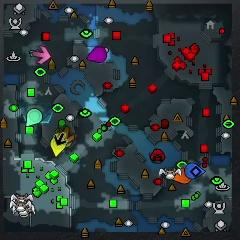p1: (185, 162, 206, 177)
p2: (25, 107, 44, 127)
p3: (87, 46, 107, 64)
p4: (51, 137, 65, 157)
p5: (170, 167, 192, 185)
x1: (32, 46, 51, 64)
x2Clone: (54, 133, 67, 146)
x5: (60, 124, 76, 145)
